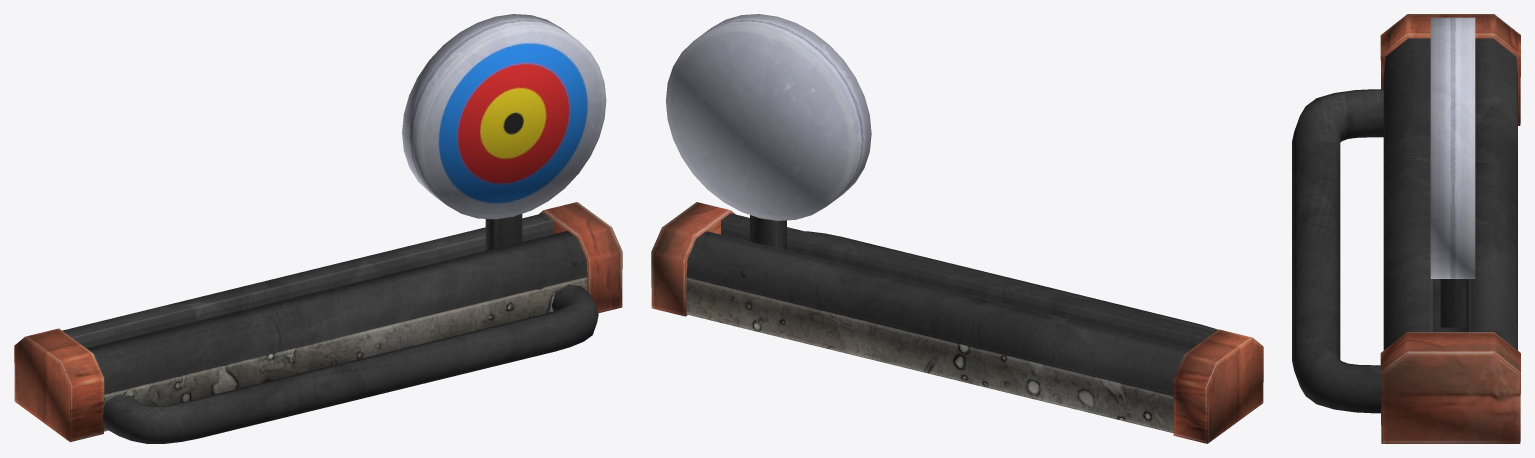
The model's file is tombolaso-target-2.glb.
The picture shows the model from 3 angles, left to right: view 1: azimuth 30°, elevation 25°; view 2: azimuth 150°, elevation 25°; view 3: azimuth 270°, elevation 25°; orthographic projection. The views are drawn at different scales.
Parts seen in each view (by area): view 1: 01_Props.006, TargetsTextureRT.001; view 2: 01_Props.006, TargetsTextureRT.001; view 3: 01_Props.006, TargetsTextureRT.001.
Part boxes in pixels (x1=…): 01_Props.006: x1=14, y1=202, x2=622, y2=443; TargetsTextureRT.001: x1=402, y1=14, x2=606, y2=250; 01_Props.006: x1=651, y1=202, x2=1263, y2=443; TargetsTextureRT.001: x1=666, y1=14, x2=871, y2=250; 01_Props.006: x1=1292, y1=14, x2=1520, y2=443; TargetsTextureRT.001: x1=1430, y1=17, x2=1475, y2=327.
Size of the model in its own units: 5.16 by 2.53 by 1.46.
2 materials, 2 textured.
